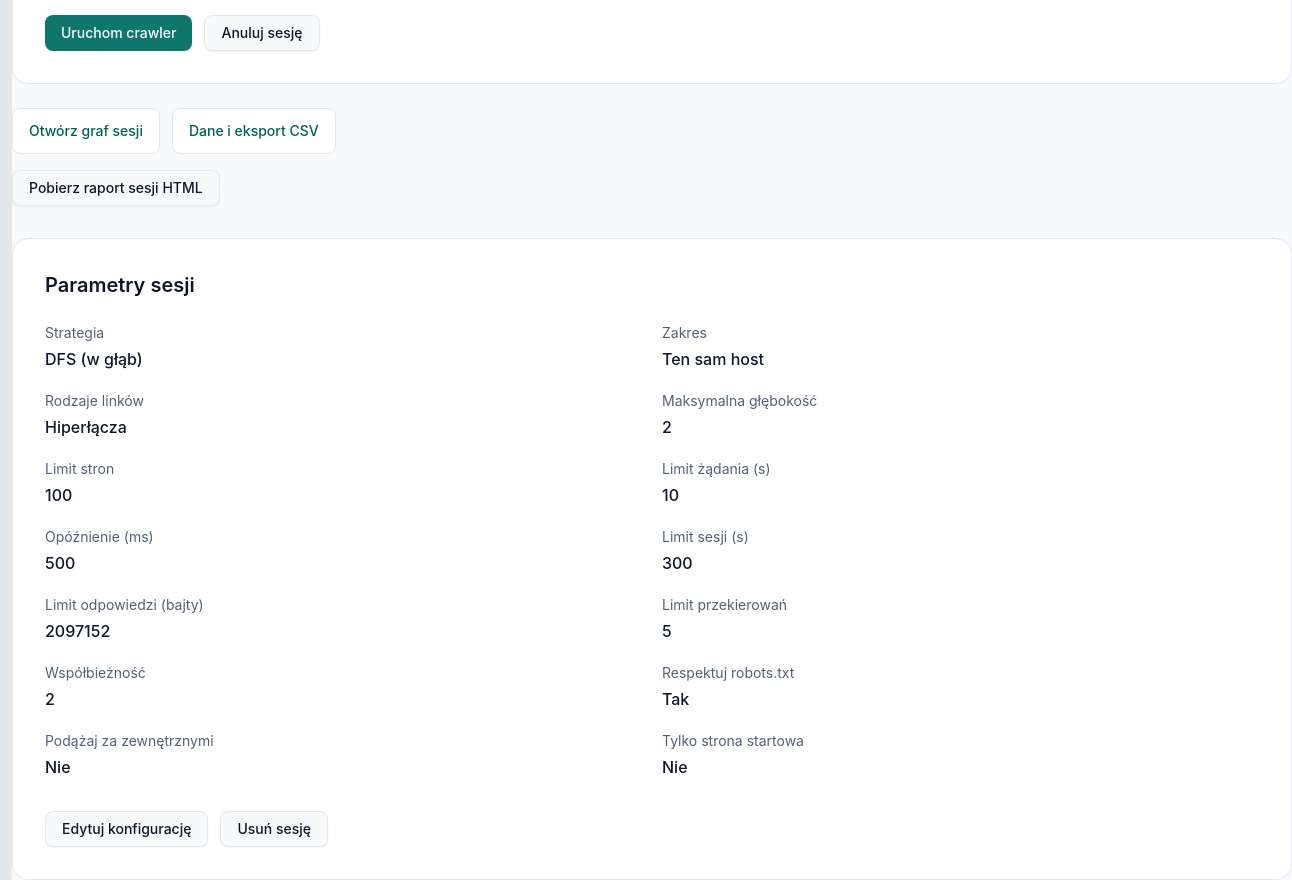
Scenario: sessions UI › requires explicit delete, then returns to list
(page scrolled)
Click the button "Usuń sesję".
click(274, 829)  # box [220,811,328,847]
(page scrolled)
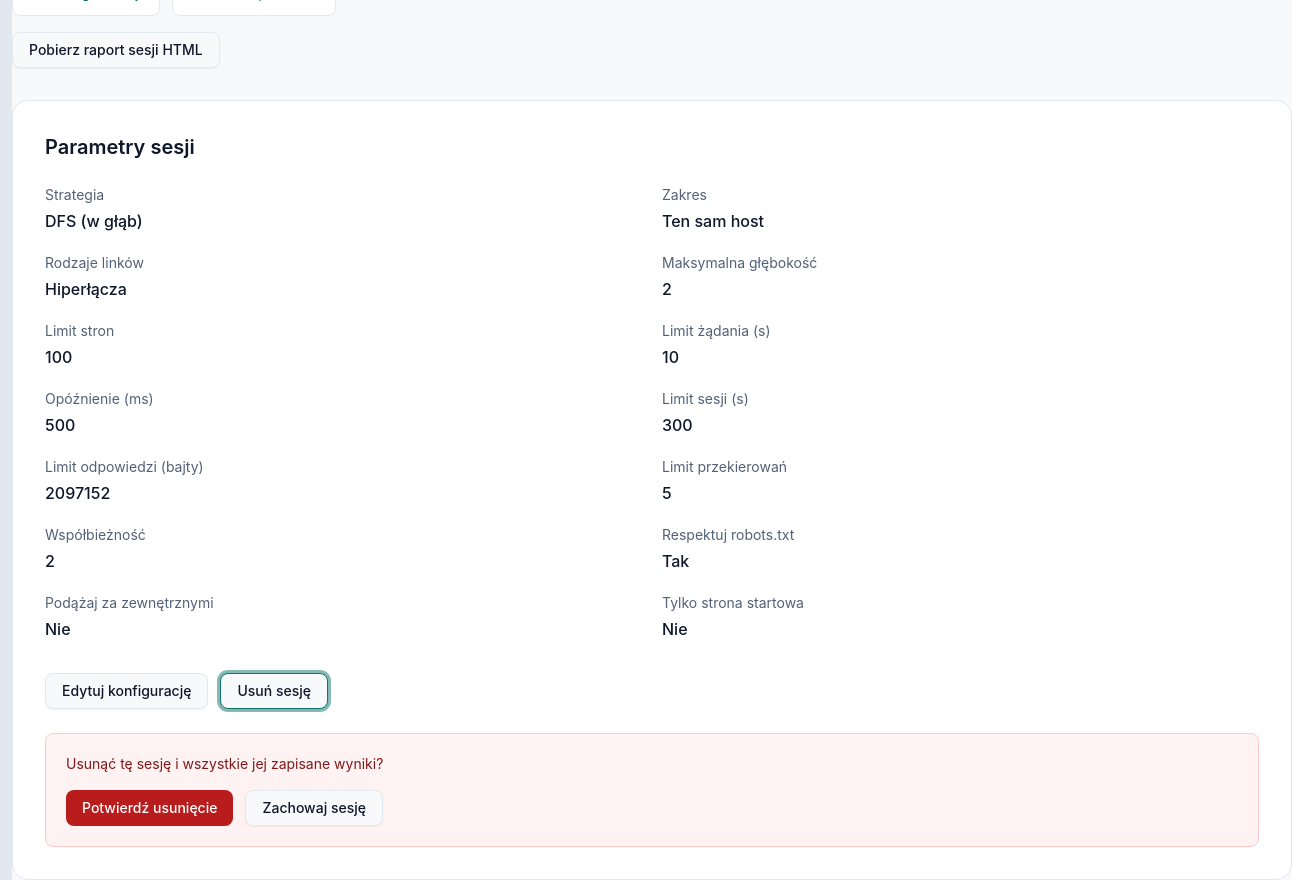
Click the button "Zachowaj sesję".
click(314, 808)  # box [246,790,383,826]
(page scrolled)
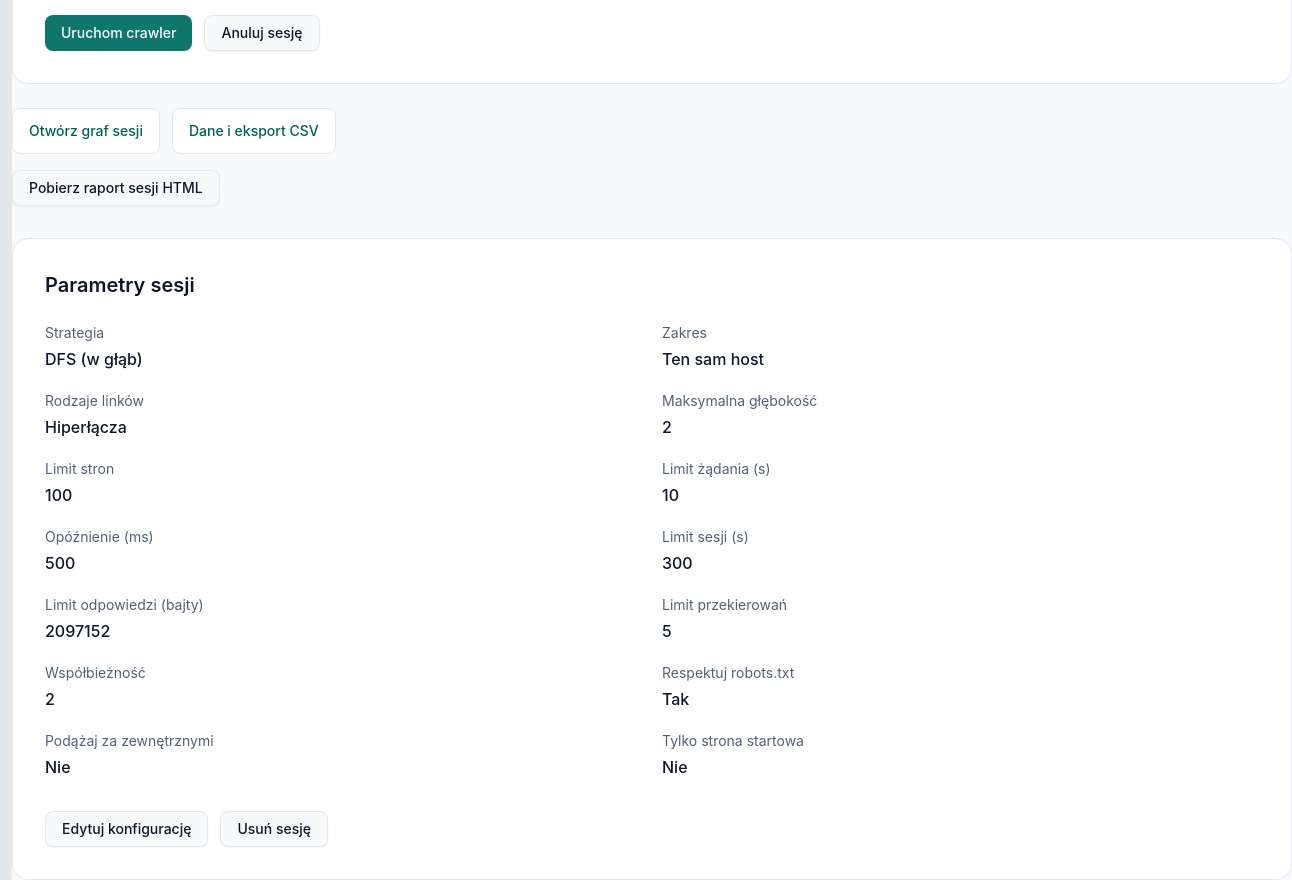
Now the button "Potwierdź usunięcie" is gone
Click the button "Usuń sesję".
click(274, 829)  # box [220,811,328,847]
(page scrolled)
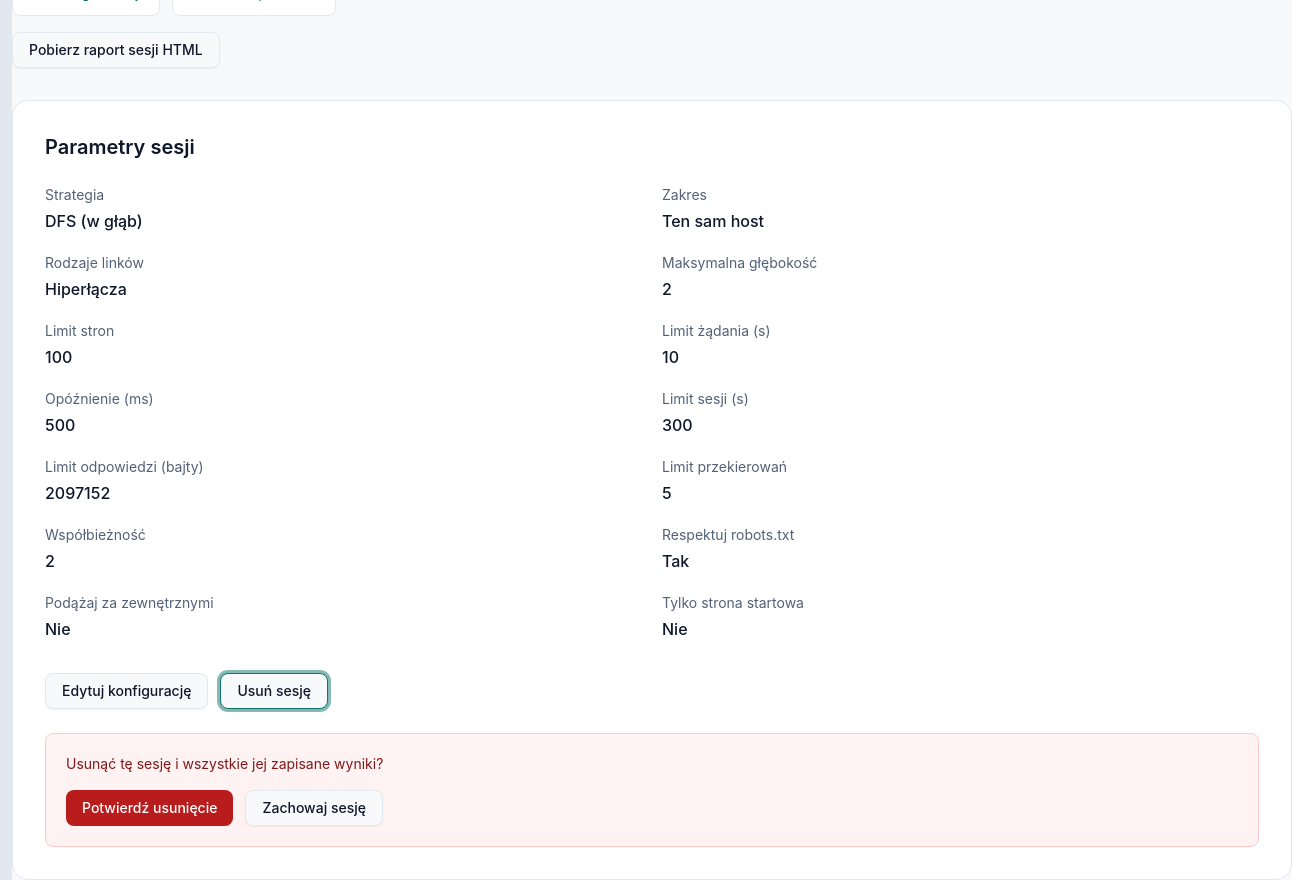
Click the button "Potwierdź usunięcie".
click(150, 808)  # box [66,790,234,826]
(page scrolled)
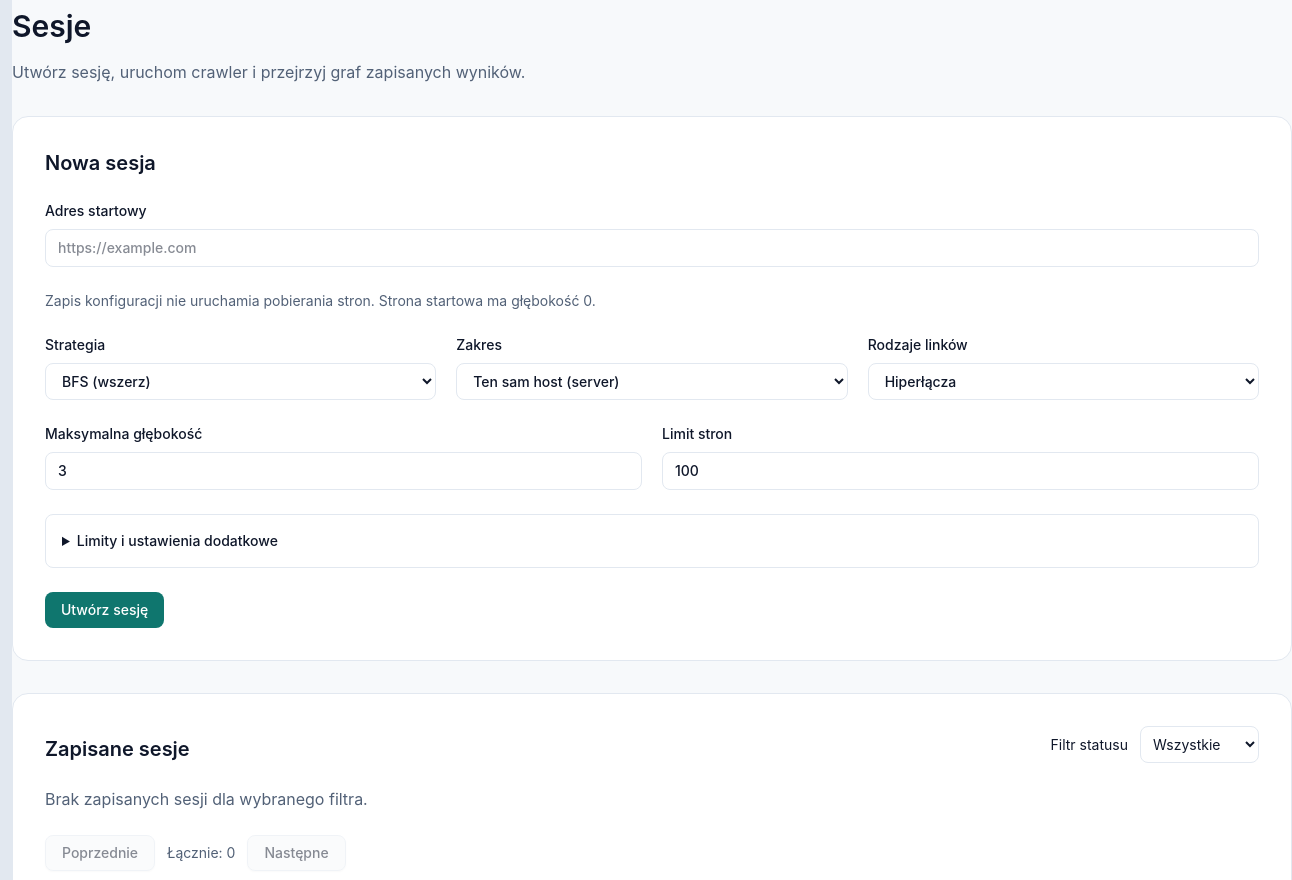
Now the heading "Nowa sesja" is shown, box [45,151,156,175]
